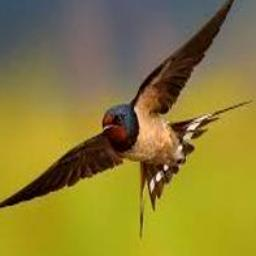Swallow: (0, 0, 252, 237)
